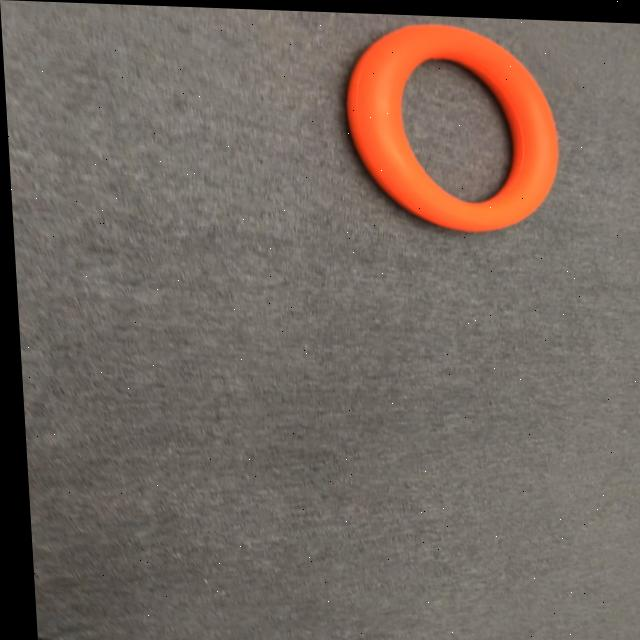note: (341, 19, 565, 227)
